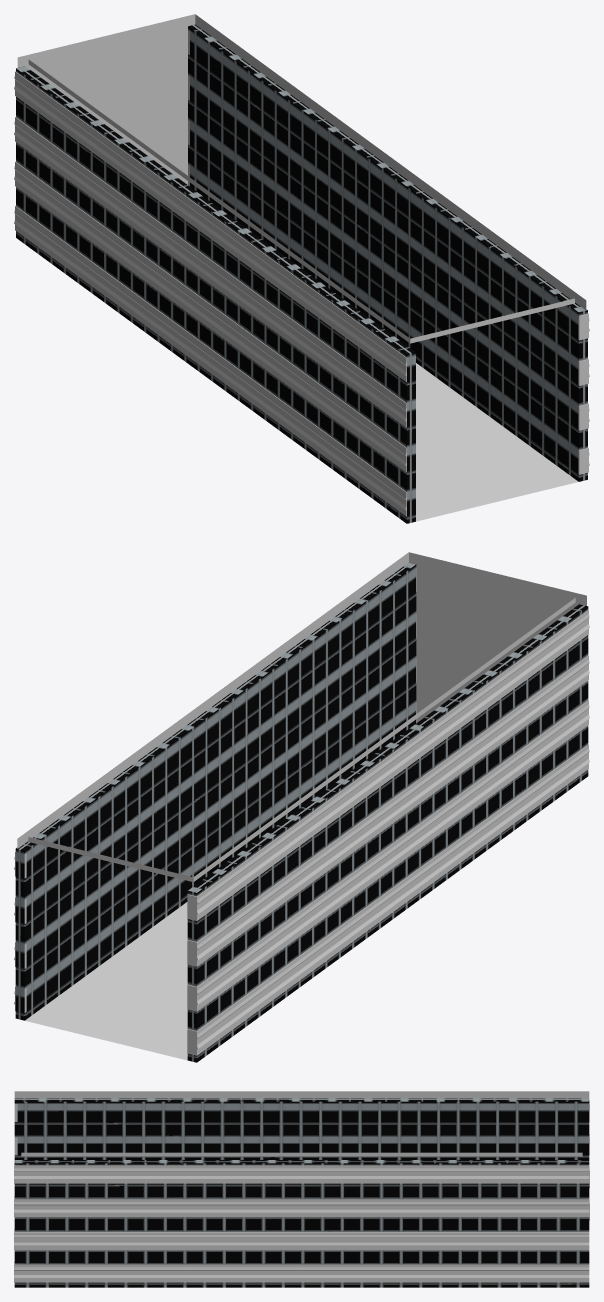
Rendered from update 1.glb.
The picture shows the model from 3 angles, top to bottom: view 1: azimuth 30°, elevation 25°; view 2: azimuth 150°, elevation 25°; view 3: azimuth 270°, elevation 25°; orthographic projection. The views are drawn at different scales.
Parts seen in each view (by area): view 1: Cube.032, Cube.031, Cube.026; view 2: Cube.032, Cube.031, Cube.026; view 3: Cube.032, Cube.031, Cube.026.
Boxes of the visible parts, <box> form: Cube.032: <box>14,14,589,521</box>; Cube.031: <box>188,24,587,481</box>; Cube.026: <box>16,66,415,523</box>; Cube.032: <box>14,552,589,1060</box>; Cube.031: <box>15,562,416,1020</box>; Cube.026: <box>187,604,588,1062</box>; Cube.032: <box>14,1091,589,1282</box>; Cube.031: <box>14,1160,589,1287</box>; Cube.026: <box>14,1098,589,1159</box>.
Bounding box in the file's own units: 1.15 × 1.08 × 4.25.
Materials: 1 (1 with a texture image).
